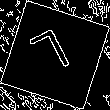L_SE: (30, 26, 80, 84)
